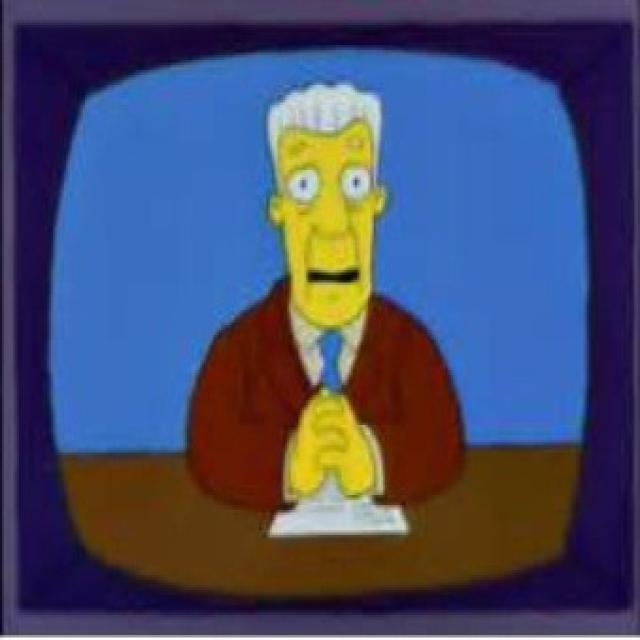Kent Brockman: (261, 75, 392, 335)
